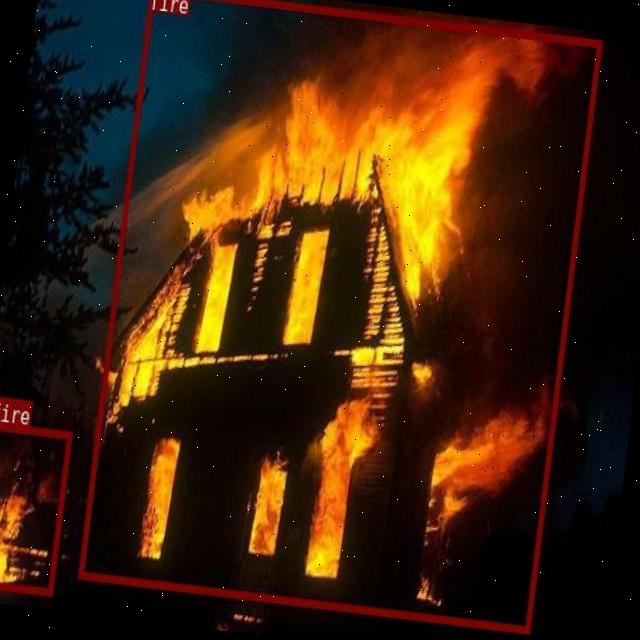fire: (78, 0, 601, 633), (0, 421, 70, 594)
